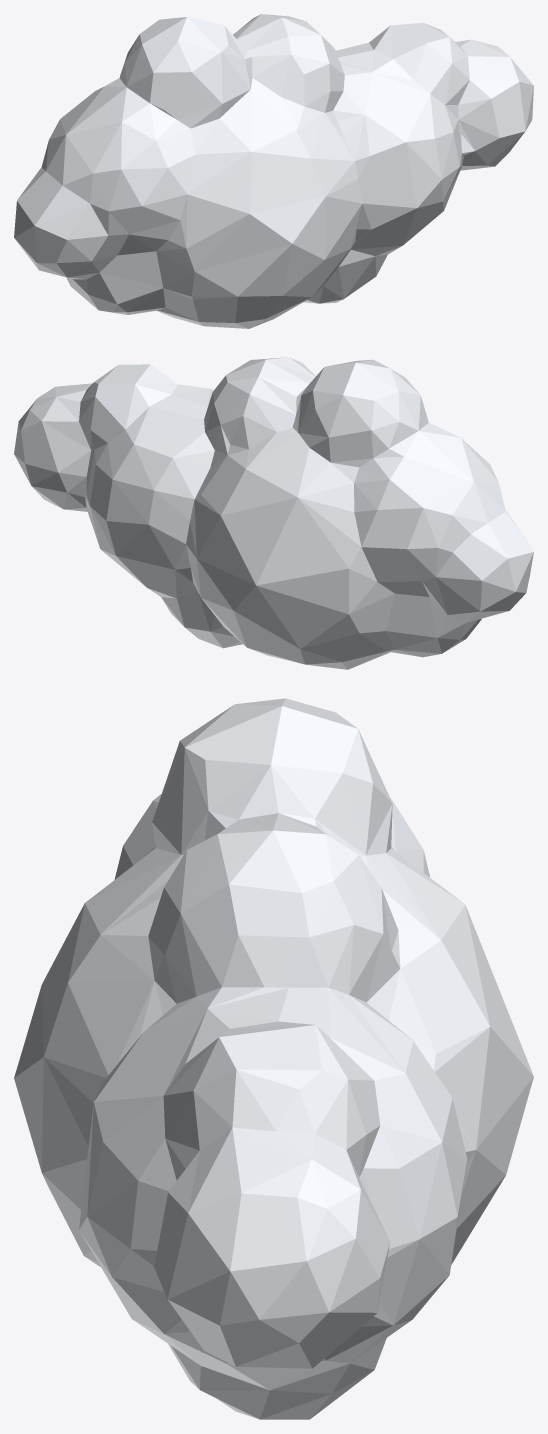
Rendered from Clould_B.glb.
3 renders of one model, top to bottom at view 1: azimuth 30°, elevation 25°; view 2: azimuth 150°, elevation 25°; view 3: azimuth 270°, elevation 25°, orthographic. The views are drawn at different scales.
Visible parts, largest first — view 1: Clould_B; view 2: Clould_B; view 3: Clould_B.
Boxes of the visible parts, x1,y1,x2,y2 form: Clould_B: (14,14,533,328); Clould_B: (14,357,533,669); Clould_B: (14,698,533,1419).
Size of the model in its own units: 92.78 by 54.76 by 44.39.
1 material, 1 textured.
